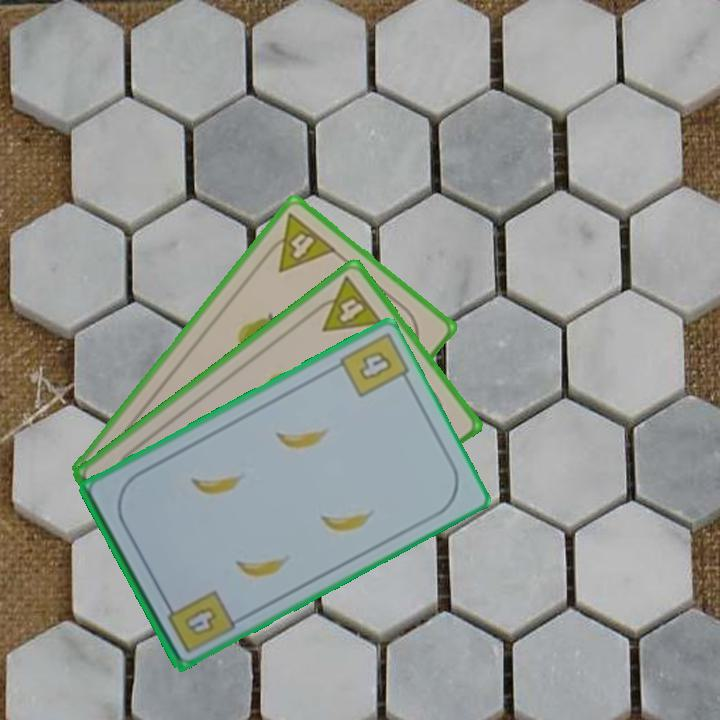4b: (160, 586, 237, 656), (355, 346, 396, 383)
4p: (259, 209, 339, 275), (306, 272, 386, 335)
